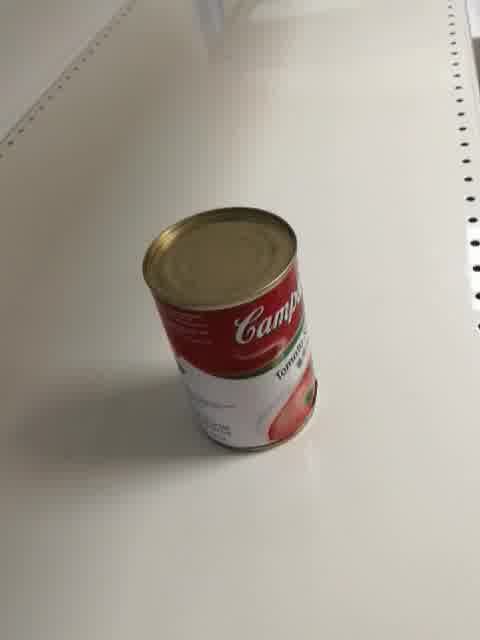tomatosoup: (140, 206, 317, 452)
